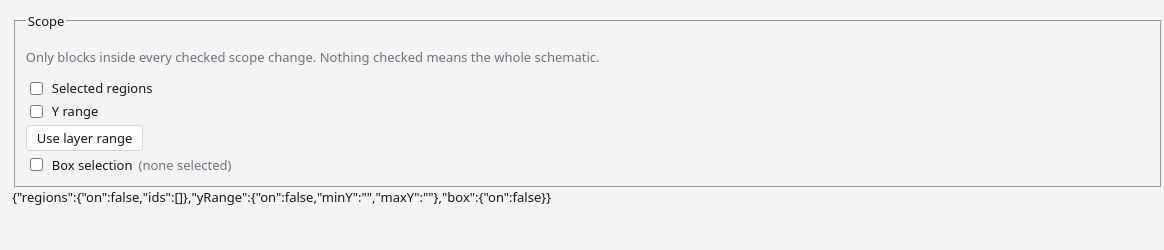
Scenario: ScopeEditor › reuses the layer range in one click
This screenshot has width=1164, height=250.
Click the button "Use layer range": [85, 138] box [26,125,143,151]
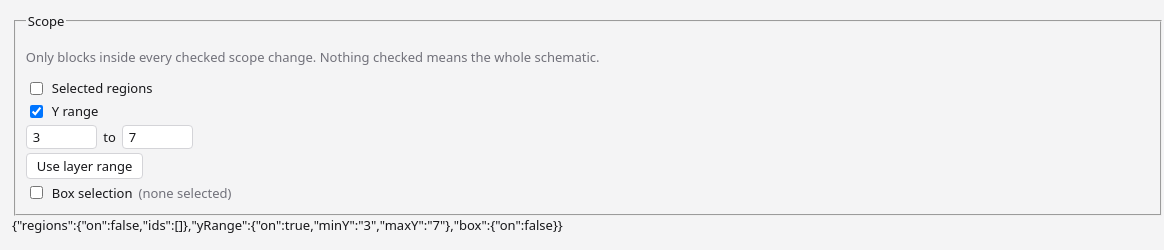
Check: the number field named "Scope min Y" holds "3", box [26,125,97,149]
